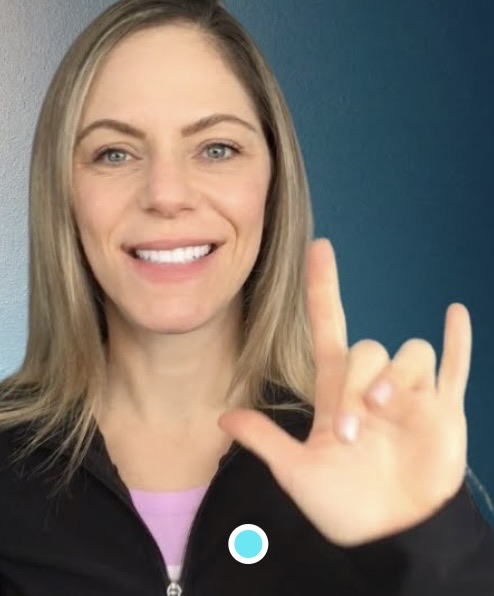loveyou: (214, 216, 482, 542)
